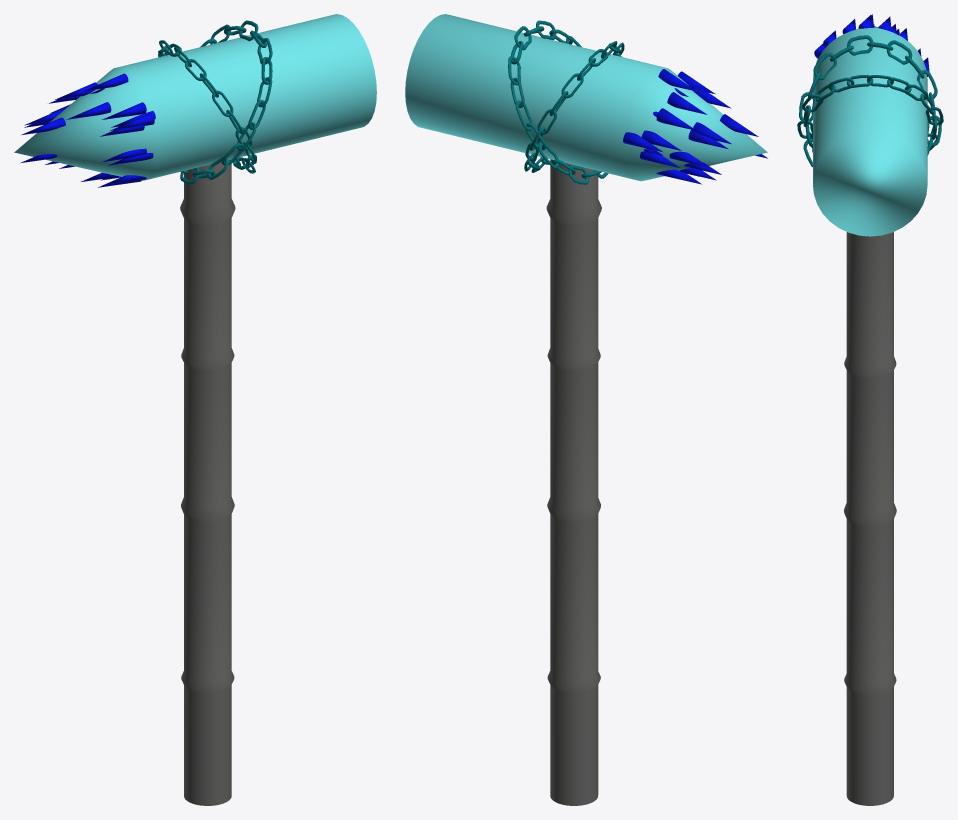
Rendered from MazoDeHielo.fbx.
3 views of the same model, side by side, from view 1: azimuth 30°, elevation 25°; view 2: azimuth 150°, elevation 25°; view 3: azimuth 270°, elevation 25° (orthographic).
Parts seen in each view (by area): view 1: Cylinder.001, Cylinder, Cone, Torus.005, Torus.001; view 2: Cylinder.001, Cylinder, Cone, Torus.005, Torus.001; view 3: Cylinder, Cylinder.001, Torus.001, Torus.005, Cone.
Boxes of the visible parts, x1=… form: Cylinder.001: x1=14, y1=14, x2=376, y2=180; Cylinder: x1=180, y1=159, x2=235, y2=805; Cone: x1=21, y1=73, x2=155, y2=187; Torus.005: x1=180, y1=20, x2=272, y2=184; Torus.001: x1=158, y1=40, x2=256, y2=173; Cylinder.001: x1=405, y1=14, x2=767, y2=181; Cylinder: x1=546, y1=159, x2=601, y2=805; Cone: x1=623, y1=69, x2=767, y2=184; Torus.005: x1=508, y1=20, x2=608, y2=184; Torus.001: x1=524, y1=41, x2=624, y2=172; Cylinder: x1=844, y1=232, x2=896, y2=805; Cylinder.001: x1=813, y1=26, x2=927, y2=236; Torus.001: x1=799, y1=35, x2=941, y2=166; Torus.005: x1=797, y1=75, x2=943, y2=152; Cone: x1=814, y1=14, x2=929, y2=76.
Size of the model in its own units: 1648 by 3579 by 637.
